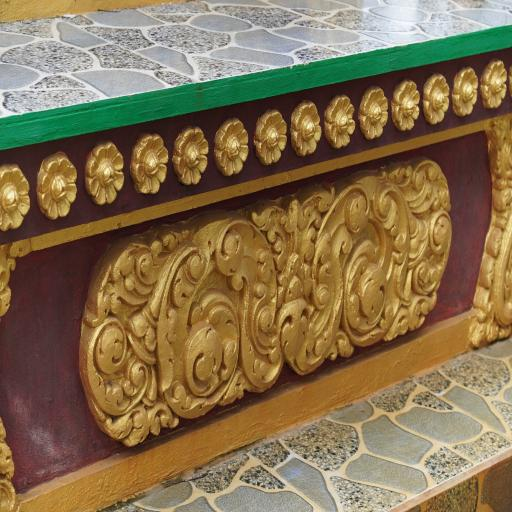hoa: (33, 146, 81, 223), (82, 131, 126, 213), (128, 125, 170, 204), (172, 117, 210, 192), (216, 103, 252, 179), (324, 86, 362, 158), (353, 74, 391, 146), (0, 156, 32, 241), (252, 102, 288, 172), (289, 99, 326, 163), (389, 72, 420, 136), (420, 64, 448, 131), (479, 54, 508, 109), (452, 57, 473, 117)
la: (76, 232, 176, 448), (155, 225, 243, 424), (280, 179, 366, 376), (210, 213, 286, 387), (393, 157, 457, 347), (349, 178, 414, 346), (258, 184, 338, 308)
